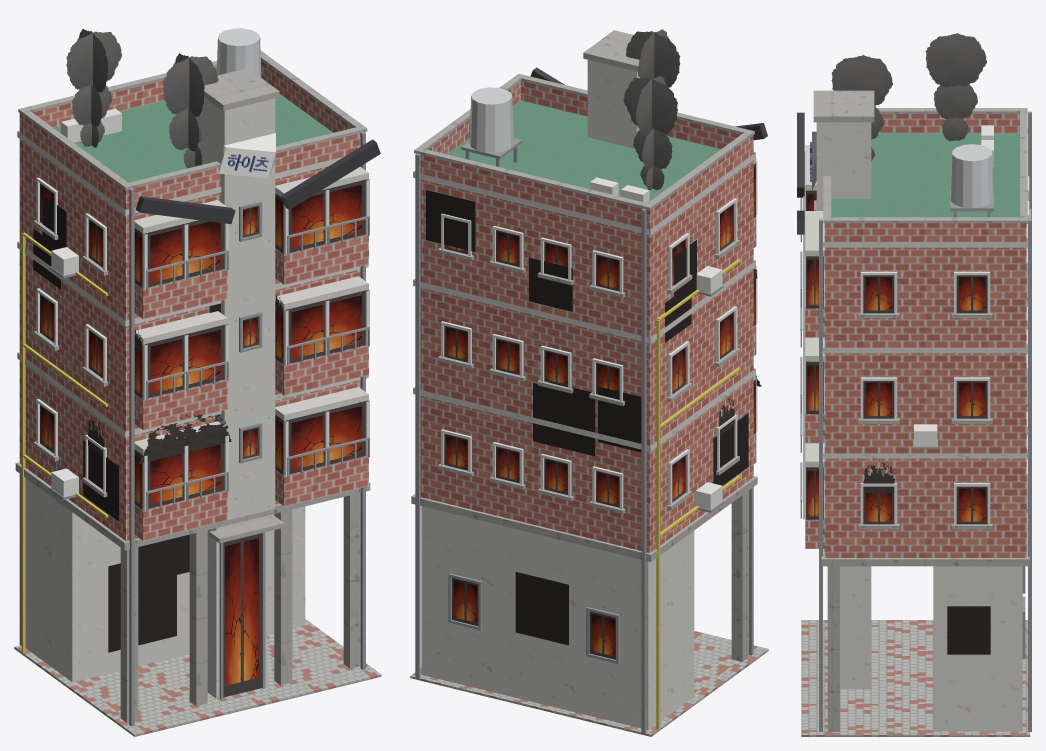
File: Story01_하이츠_화남.fbx
3 views of the same model, side by side, from view 1: azimuth 30°, elevation 25°; view 2: azimuth 150°, elevation 25°; view 3: azimuth 270°, elevation 25° (orthographic). The views are drawn at different scales.
Parts seen in each view (by area): view 1: Story01_하이츠_화남; view 2: Story01_하이츠_화남; view 3: Story01_하이츠_화남.
Boxes of the visible parts, x1,y1,x2,y2 form: Story01_하이츠_화남: (14,28,381,736); Story01_하이츠_화남: (410,29,768,736); Story01_하이츠_화남: (797,33,1031,736).
Size of the model in its own units: 3860 by 8685 by 3025.
Materials: 15 (15 with a texture image).
